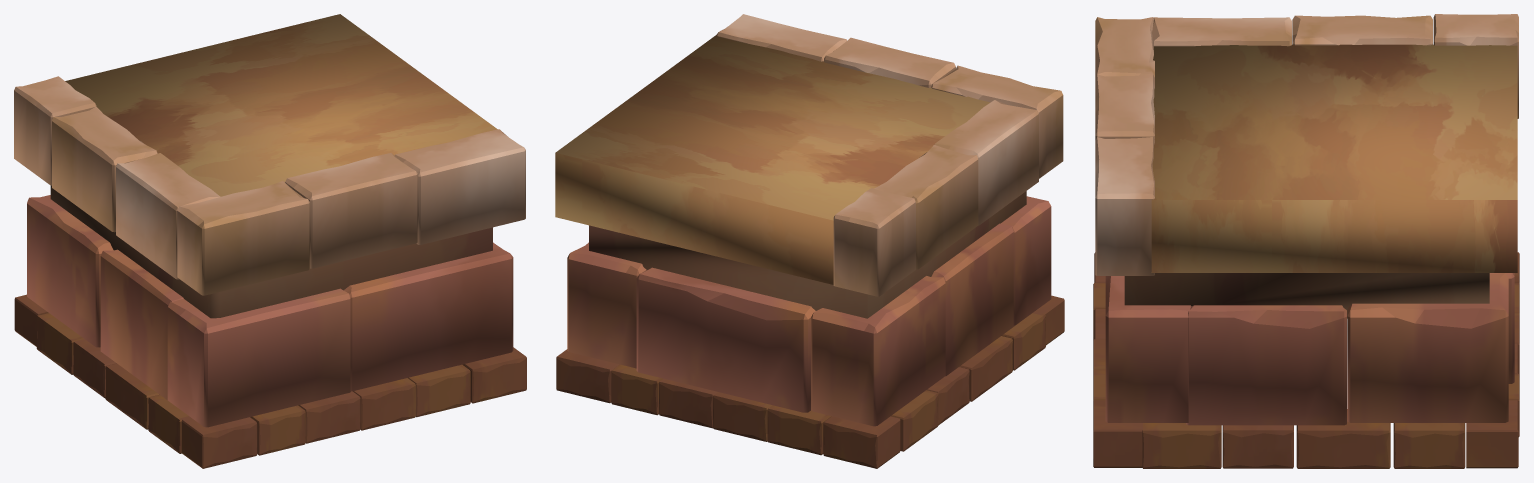
File: FBX_Floor_Corner_Inner_01.fbx
The picture shows the model from 3 angles, left to right: view 1: azimuth 30°, elevation 25°; view 2: azimuth 150°, elevation 25°; view 3: azimuth 270°, elevation 25°; orthographic projection. The views are drawn at different scales.
Visible parts, largest first — view 1: Cube.023; view 2: Cube.023; view 3: Cube.023.
Part boxes in pixels (bbox=[...]): Cube.023: bbox=[14, 14, 526, 468]; Cube.023: bbox=[555, 14, 1064, 468]; Cube.023: bbox=[1093, 14, 1519, 468].
Bounding box in the file's own units: 5.07 × 3.62 × 5.07.
